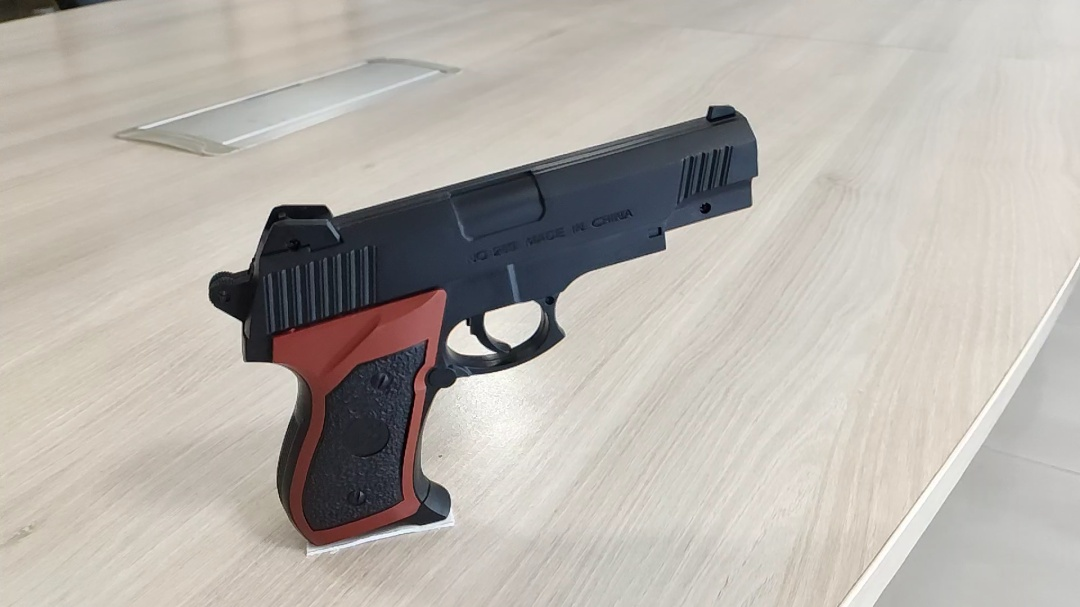gun: (207, 104, 762, 548)
